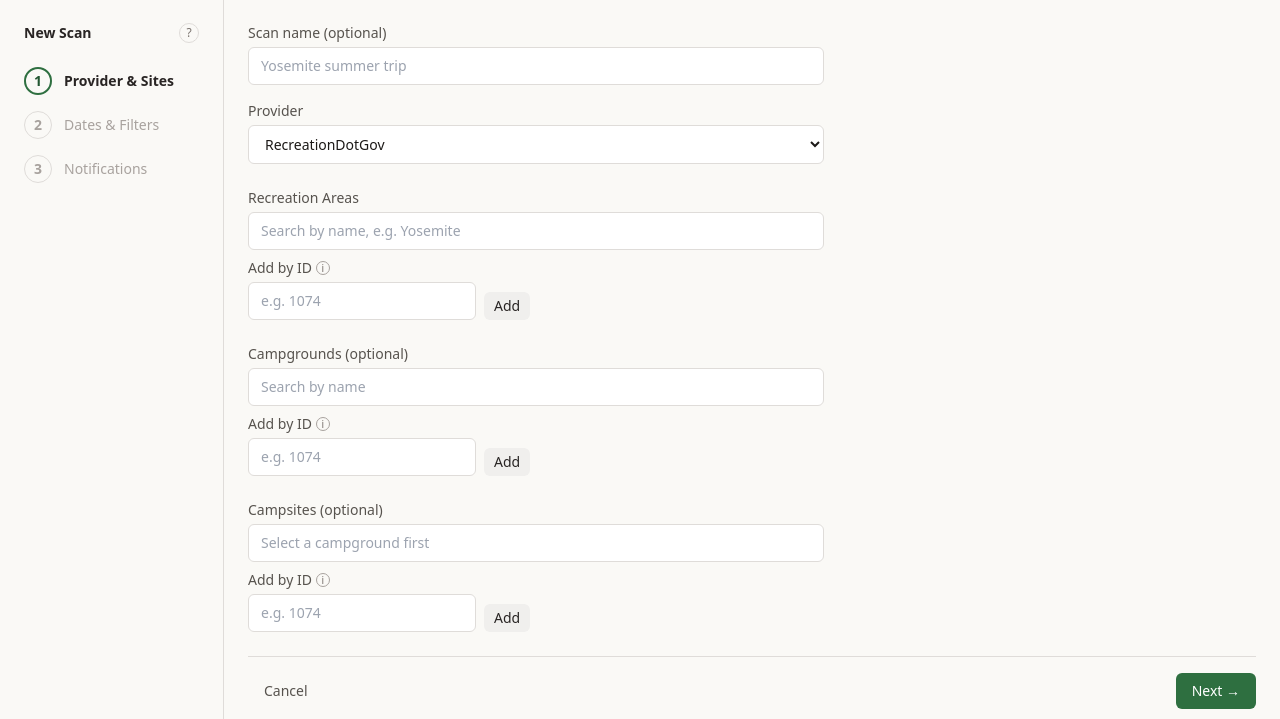
it: ScanWizardPanel › blocks advancing past the dates step when no search window has been added
This screenshot has width=1280, height=719.
In the field labelled "Add by ID i" below "Recreation Areas": (362, 301) [248, 282, 476, 320], type "2991"
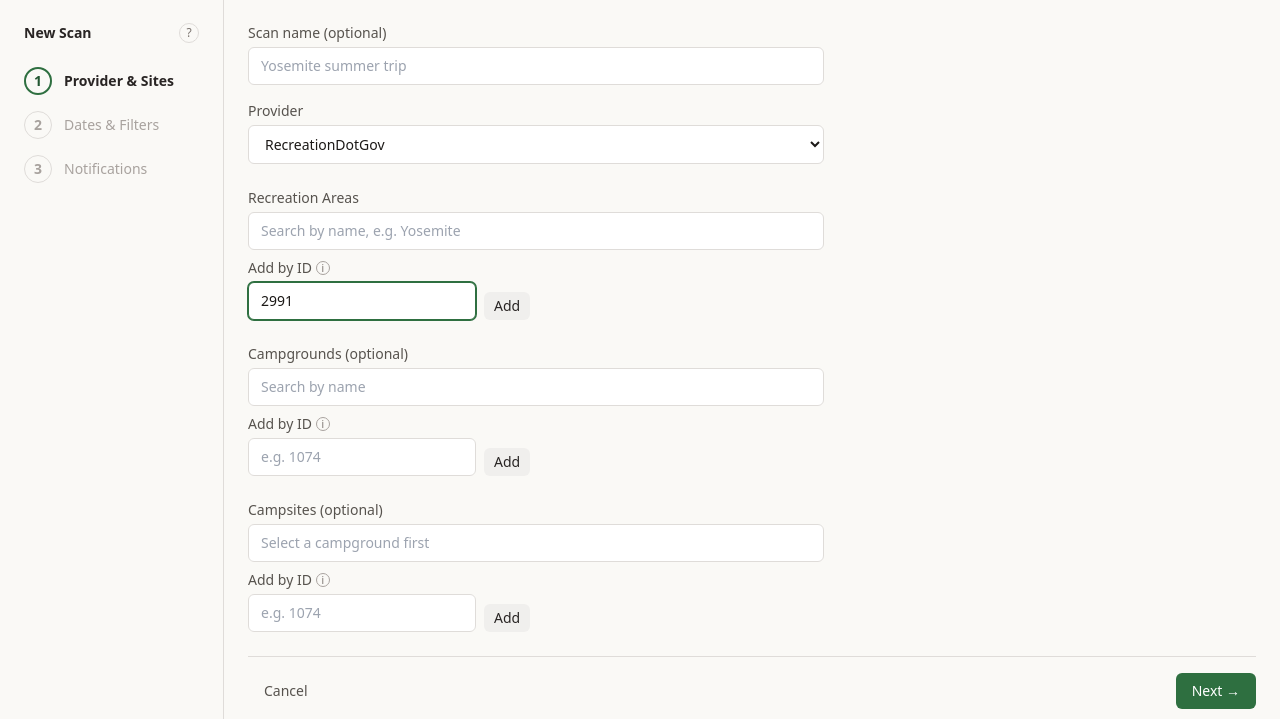
Click the button "Add" below "Recreation Areas": (507, 306) [484, 292, 530, 320]
(page scrolled)
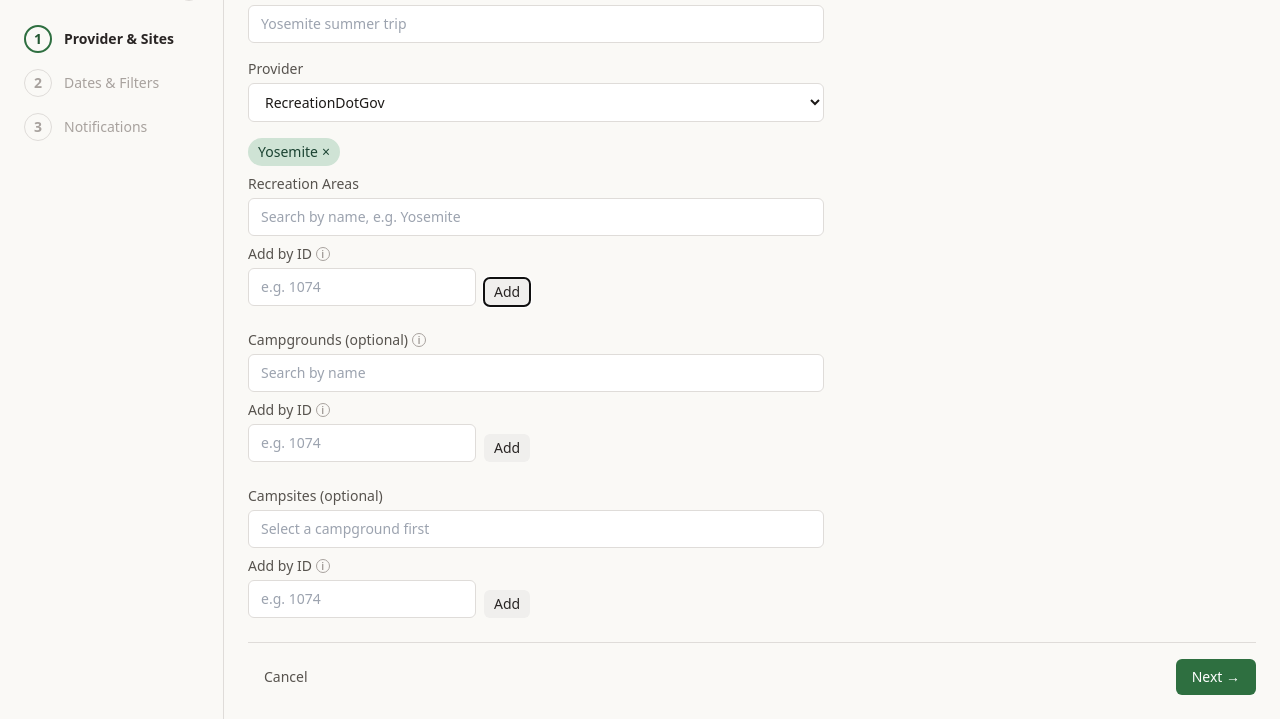
Click the button "Next →": (1216, 677) [1176, 659, 1256, 695]
(page scrolled)
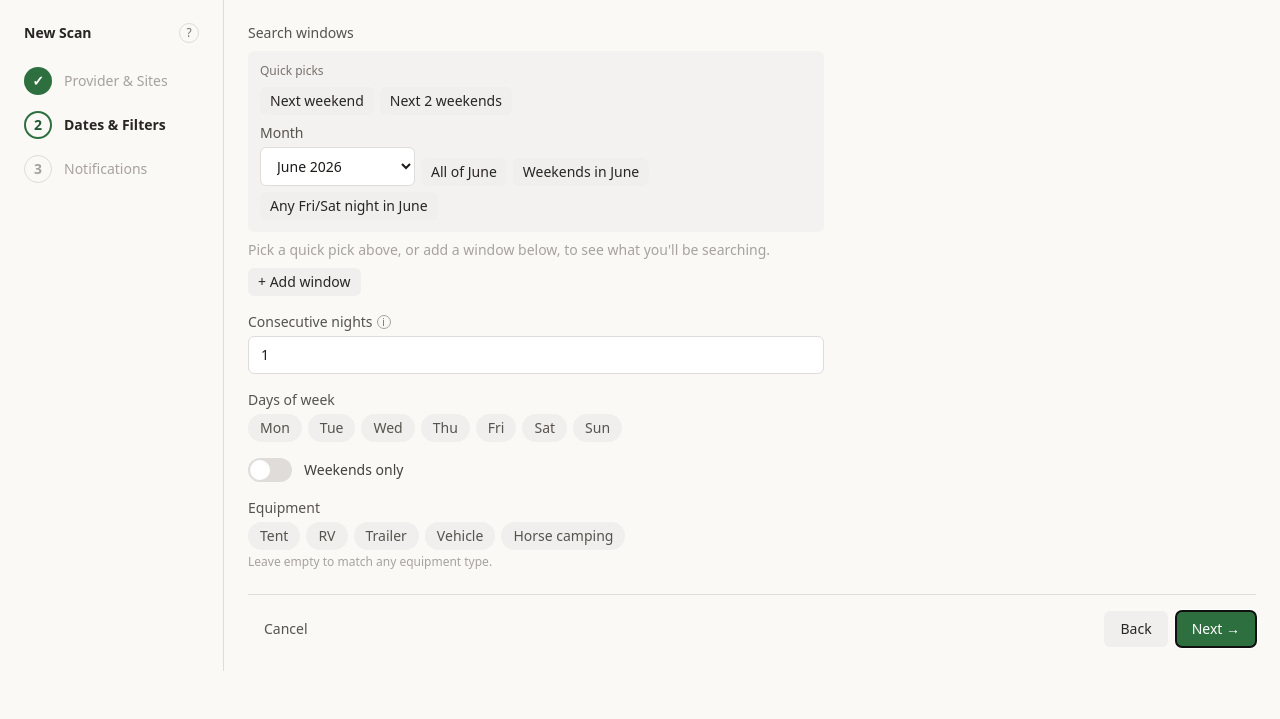
Click the button "Next →": (1216, 629) [1176, 611, 1256, 647]
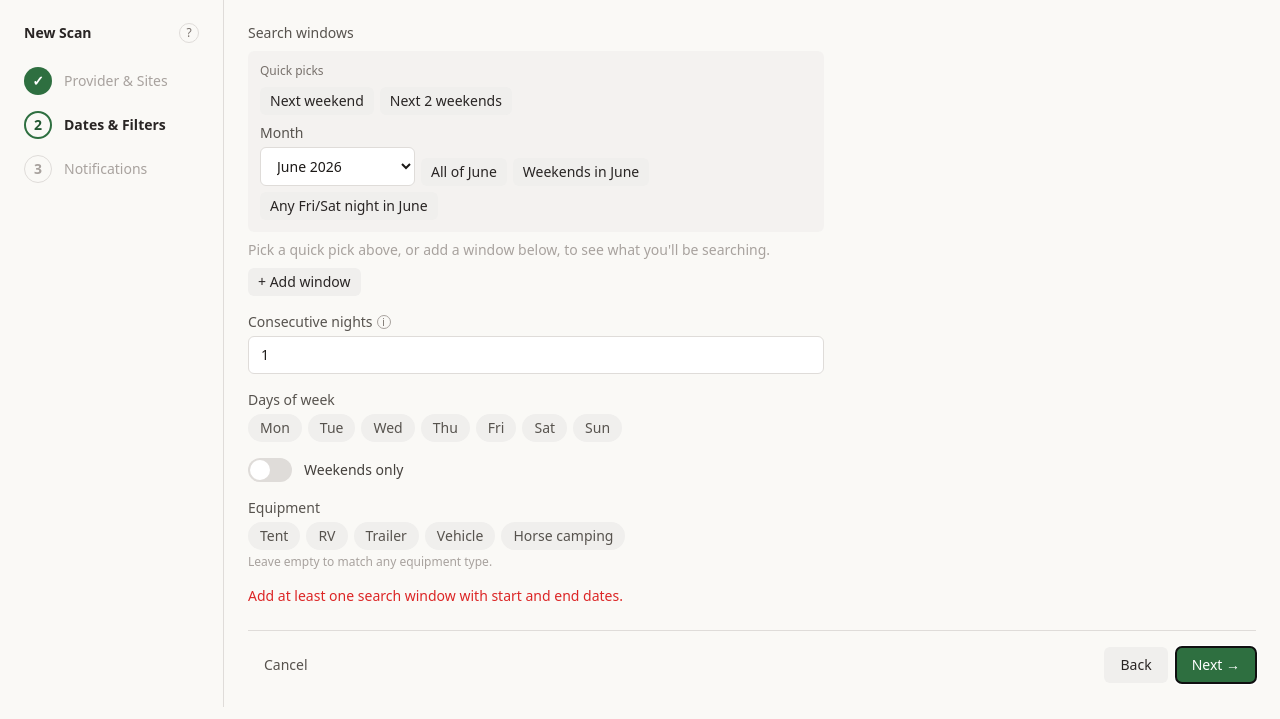
Expected: the text "Add at least one search window with start and end dates." is shown, [248, 586, 623, 605]
